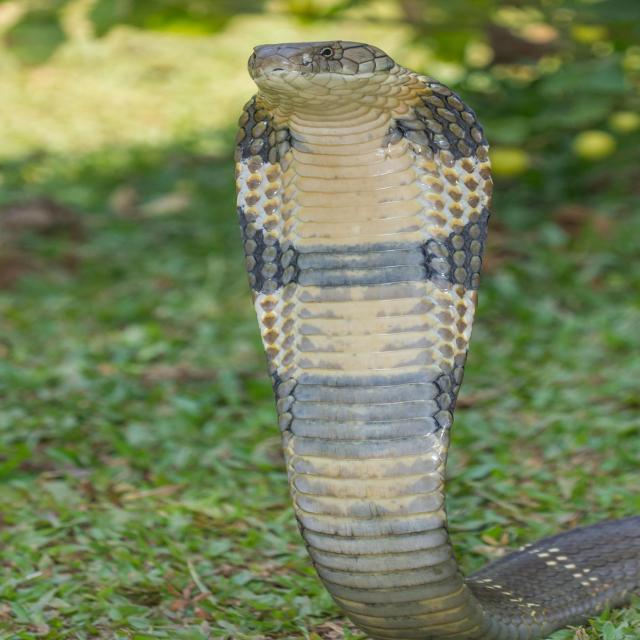Snake: (232, 39, 639, 639)
